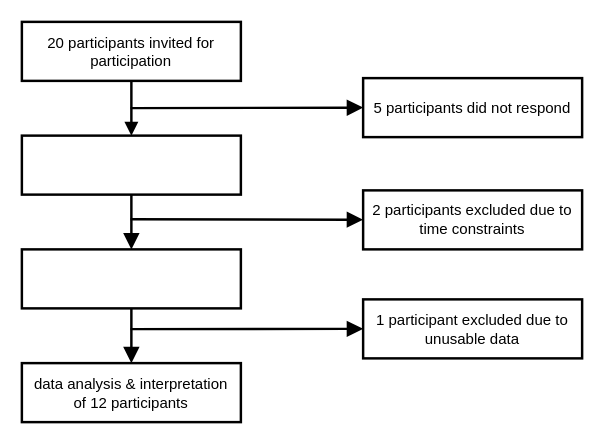
Some shapes in this 606 by 446 pixel diagram are drawn without their labels. Each missing label, with the centre of its shape:
"13 participants performed experiment" belongs at (x=131, y=278).
"15 participants available for study" belongs at (x=131, y=164).
